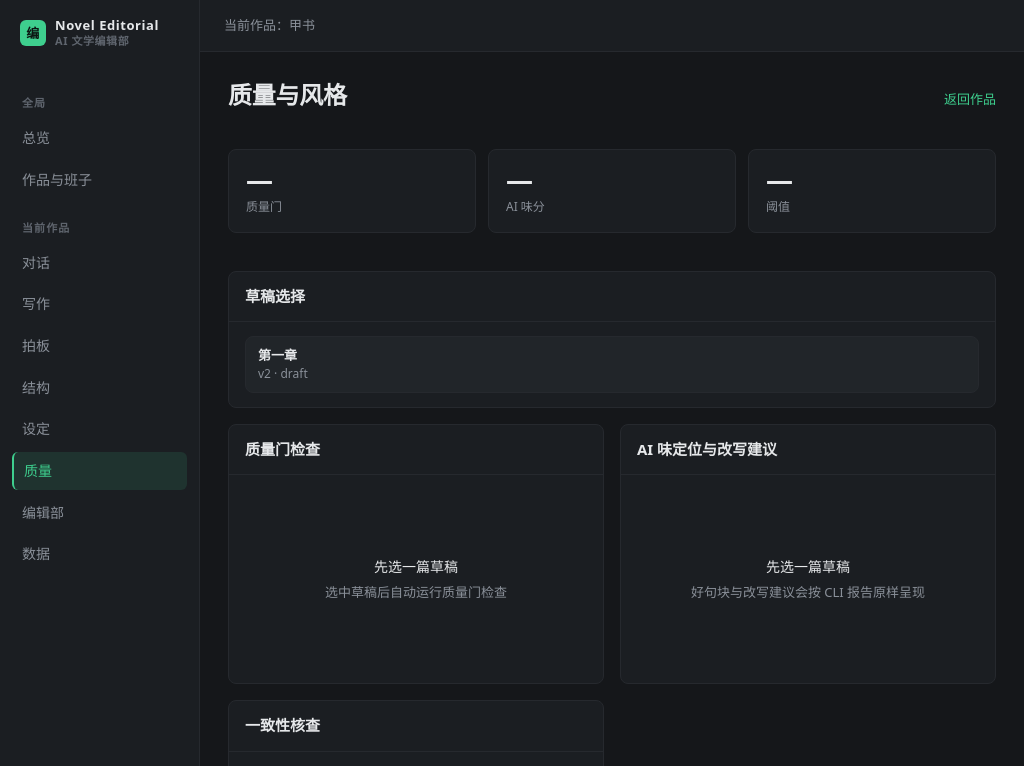
Test: quality workbench › selecting a draft runs check / explain / consistency and keeps the plain-text format
Click the button with test id "quality-draft-d1".
click(278, 355)  # box [245,336,979,393]
(page scrolled)
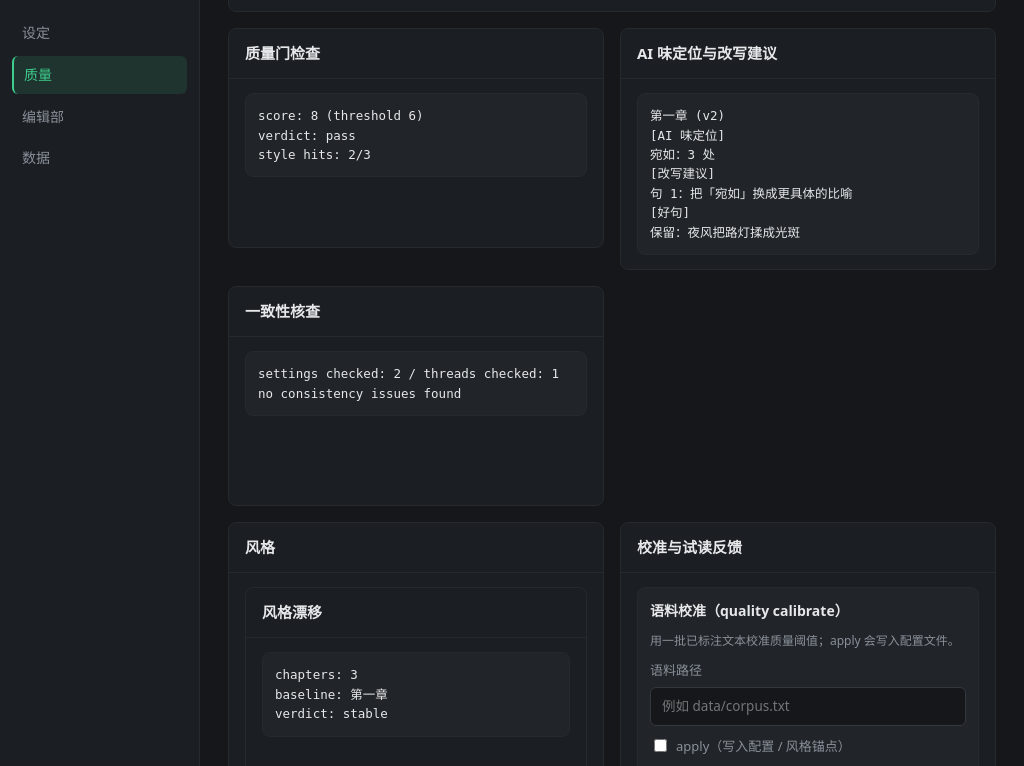
Result: the text with test id "quality-check-report" shows "score: 8 (threshold 6)" at [258,108,424,162]
Result: the text with test id "quality-explain-report" shows "把「宛如」换成更具体的比喻" at [650,108,853,240]
Result: the text with test id "quality-explain-report" shows "保留：夜风把路灯揉成光斑" at [650,108,853,240]
